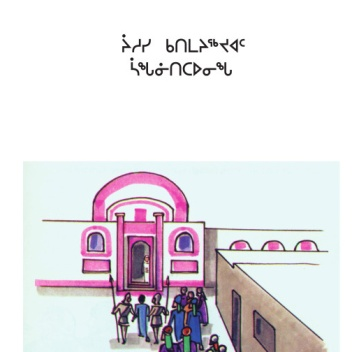inuktitut: (119, 30, 246, 54), (127, 53, 235, 78)
